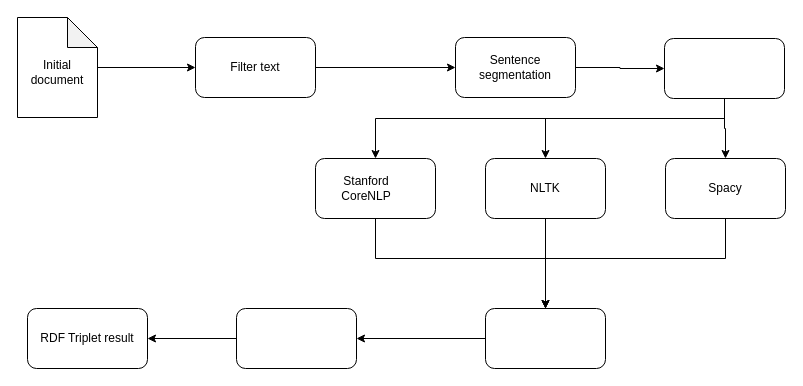
This 803x386 diagram has some shape labels left out. The box of each missing label's shape, as (x1, y1, x2, y2) in pixels:
LLM or ontology for relation extraction: (236, 308, 356, 368)
NLP Benchmark with elo system: (484, 308, 606, 368)
Use NLP for entity detection: (664, 38, 784, 98)
